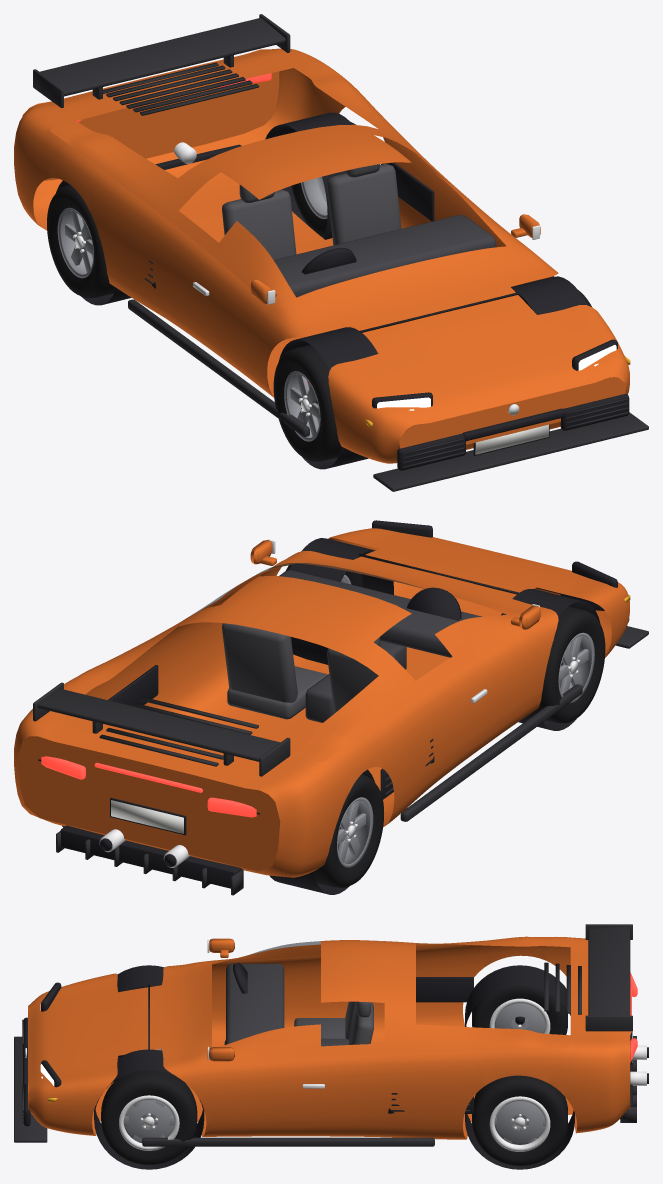
File: car_02_sport.glb
3 views of the same model, one above another, from view 1: azimuth 30°, elevation 25°; view 2: azimuth 150°, elevation 25°; view 3: azimuth 270°, elevation 25° (orthographic). The views are drawn at different scales.
Visible parts, largest first — view 1: Body, Details, Cabin, Interior, Wheel_FL_Mesh, Wheel_RL_Mesh, Wheel_RR_Mesh; view 2: Body, Details, Cabin, Interior, Wheel_FL_Mesh, Wheel_RL_Mesh; view 3: Body, Details, Cabin, Wheel_FR_Mesh, Wheel_RR_Mesh, Interior, Wheel_RL_Mesh.
Boxes of the visible parts, x1,y1,x2,y2 form: Body: (14,48,629,463); Details: (33,14,648,491); Cabin: (50,62,525,308); Interior: (222,164,496,297); Wheel_FL_Mesh: (273,344,341,461); Wheel_RL_Mesh: (47,185,115,298); Wheel_RR_Mesh: (291,122,355,237); Body: (14,528,629,877); Details: (33,520,648,895); Cabin: (64,562,524,762); Interior: (222,570,481,722); Wheel_FL_Mesh: (537,606,605,723); Wheel_RL_Mesh: (313,774,384,887); Body: (28,937,630,1139); Details: (14,924,648,1169); Cabin: (212,936,570,1064); Wheel_FR_Mesh: (101,1070,197,1165); Wheel_RR_Mesh: (472,1075,567,1165); Interior: (224,962,373,1046); Wheel_RL_Mesh: (472,986,567,1034).
Bounding box in the file's own units: 2.07 × 1.21 × 4.56.
